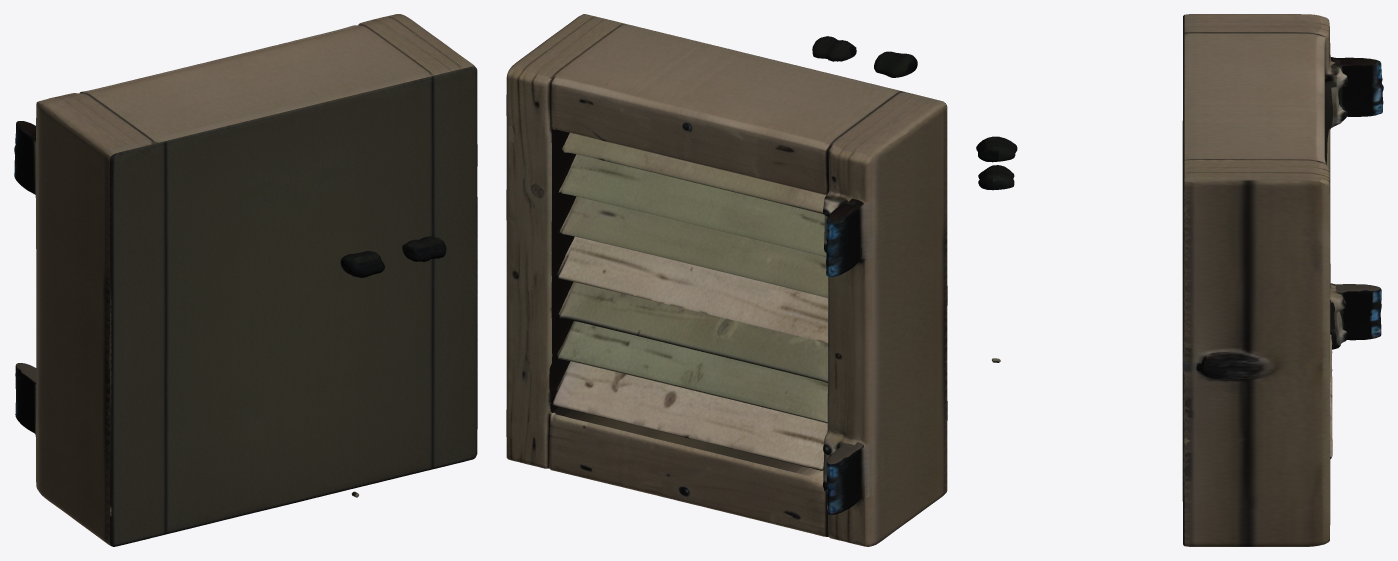
Rendered from window-shutter.glb.
3 views of the same model, side by side, from view 1: azimuth 30°, elevation 25°; view 2: azimuth 150°, elevation 25°; view 3: azimuth 270°, elevation 25° (orthographic). The views are drawn at different scales.
Parts seen in each view (by area): view 1: tmps89cg47x.ply; view 2: tmps89cg47x.ply; view 3: tmps89cg47x.ply.
Boxes of the visible parts, <box> form: tmps89cg47x.ply: <box>14,14,477,546</box>; tmps89cg47x.ply: <box>506,14,947,546</box>; tmps89cg47x.ply: <box>976,14,1383,546</box>.
Bounding box in the file's own units: 1 × 1 × 1.
1 material, 1 textured.
